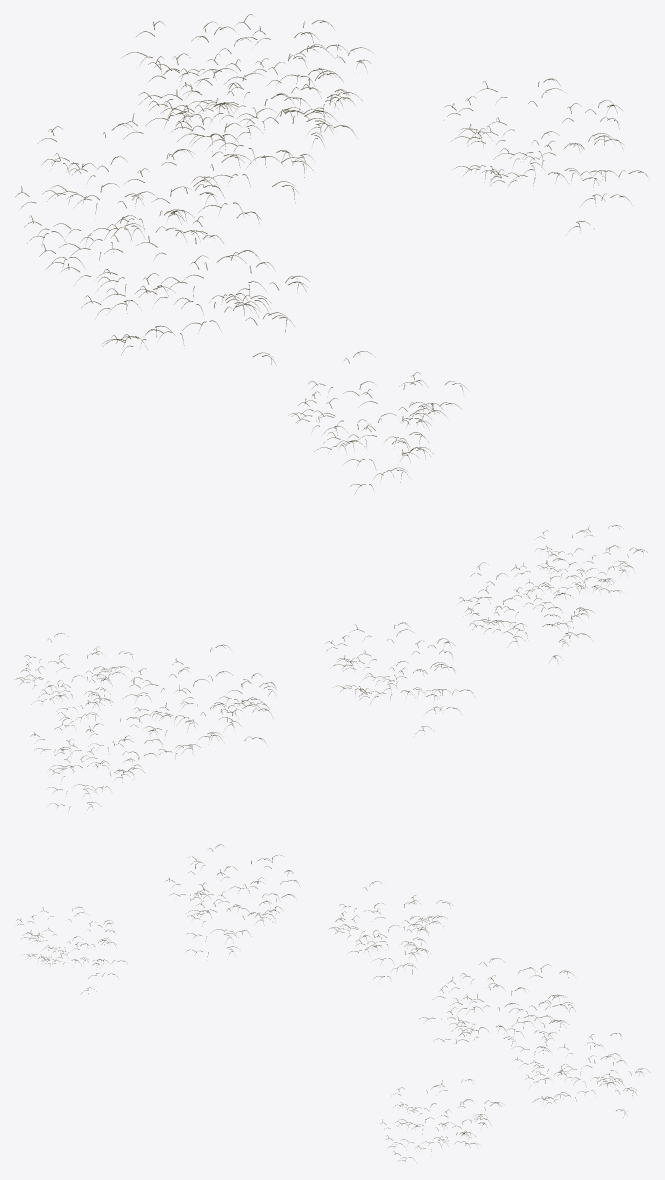
The model's file is eucalyptus--twig.glb.
The picture shows the model from 3 angles, top to bottom: view 1: azimuth 30°, elevation 25°; view 2: azimuth 150°, elevation 25°; view 3: azimuth 270°, elevation 25°; orthographic projection. The views are drawn at different scales.
Visible parts, largest first — view 1: eucalyptus-2, eucalyptus-4, eucalyptus-1, eucalyptus-6, eucalyptus-3, eucalyptus-5; view 2: eucalyptus-2, eucalyptus-4, eucalyptus-1, eucalyptus-6, eucalyptus-3, eucalyptus-5; view 3: eucalyptus-2, eucalyptus-4, eucalyptus-1, eucalyptus-6, eucalyptus-3, eucalyptus-5.
Boxes of the visible parts, x1=… form: eucalyptus-2: x1=122, y1=14, x2=344, y2=214; eucalyptus-4: x1=59, y1=211, x2=309, y2=365; eucalyptus-1: x1=15, y1=111, x2=250, y2=268; eucalyptus-6: x1=180, y1=20, x2=373, y2=164; eucalyptus-3: x1=443, y1=78, x2=647, y2=231; eucalyptus-5: x1=290, y1=351, x2=466, y2=494; eucalyptus-2: x1=126, y1=644, x2=276, y2=758; eucalyptus-4: x1=459, y1=558, x2=604, y2=663; eucalyptus-1: x1=325, y1=622, x2=474, y2=733; eucalyptus-6: x1=30, y1=701, x2=162, y2=809; eucalyptus-3: x1=16, y1=633, x2=132, y2=727; eucalyptus-5: x1=519, y1=525, x2=647, y2=608; eucalyptus-2: x1=419, y1=958, x2=575, y2=1053; eucalyptus-4: x1=166, y1=844, x2=299, y2=956; eucalyptus-1: x1=329, y1=881, x2=452, y2=979; eucalyptus-6: x1=515, y1=1032, x2=650, y2=1117; eucalyptus-3: x1=381, y1=1079, x2=501, y2=1161; eucalyptus-5: x1=16, y1=906, x2=125, y2=993.
Bounding box in the file's own units: 38.08 × 11.91 × 49.56.
